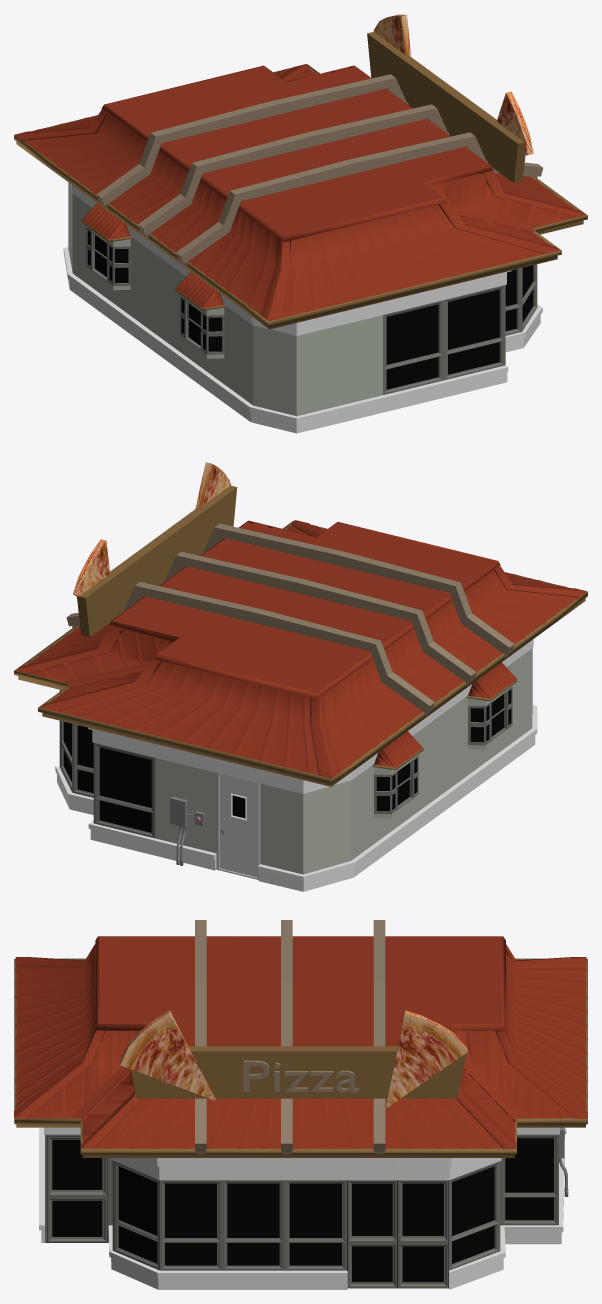
Rendered from PIZZERIA.fbx.
3 renders of one model, top to bottom at view 1: azimuth 30°, elevation 25°; view 2: azimuth 150°, elevation 25°; view 3: azimuth 270°, elevation 25°, orthographic. The views are drawn at different scales.
Visible parts, largest first — view 1: MainRoof, Walls, MainRoof.001, Roof Reinforcment, bricks, SignBcking, RoofTrim, Roof Beam3, Roof Beam2, Roofbeam1, Wall top trim, DTR (+5 smaller); view 2: MainRoof, Walls, MainRoof.001, Roof Reinforcment, bricks, SignBcking, RoofTrim, Roofbeam1, Roof Beam3, Roof Beam2, Wall top trim, DT L (+5 smaller); view 3: Walls, MainRoof, MainRoof.001, SignBcking, Roof Reinforcment, Wall top trim, bricks, RoofTrim, Cube.001, Cube, Roofbeam1, Roof Beam2 (+2 smaller).
Part boxes in pixels (x1,y1,x2,y2): MainRoof: (23,66,575,317); Walls: (68,182,537,416); MainRoof.001: (108,67,486,235); Roof Reinforcment: (14,64,585,320); bricks: (63,247,542,433); SignBcking: (367,32,525,182); RoofTrim: (14,64,587,329); Roof Beam3: (176,132,543,265); Roof Beam2: (138,104,449,238); Roofbeam1: (97,74,408,207); Wall top trim: (70,183,511,335); DTR: (180,295,224,358); MainRoof: (28,522,579,775); Walls: (59,648,532,879); MainRoof.001: (115,522,494,692); Roof Reinforcment: (16,520,587,778); bricks: (55,705,537,891); SignBcking: (77,485,237,637); RoofTrim: (14,520,587,786); Roofbeam1: (66,582,434,716); Roof Beam3: (201,523,514,657); Roof Beam2: (163,551,476,685); Wall top trim: (60,639,533,793); DT L: (374,754,418,818); Walls: (45,1134,558,1288); MainRoof: (15,951,586,1148); MainRoof.001: (101,938,500,1046); SignBcking: (127,1046,466,1098); Roof Reinforcment: (14,936,587,1148); Wall top trim: (44,1127,559,1180); bricks: (39,1127,564,1289); RoofTrim: (14,958,587,1157); Cube.001: (120,1010,215,1100); Cube: (385,1010,467,1108); Roofbeam1: (373,920,385,1154); Roof Beam2: (281,920,292,1154).
Size of the model in its own units: 784 by 487 by 956.
